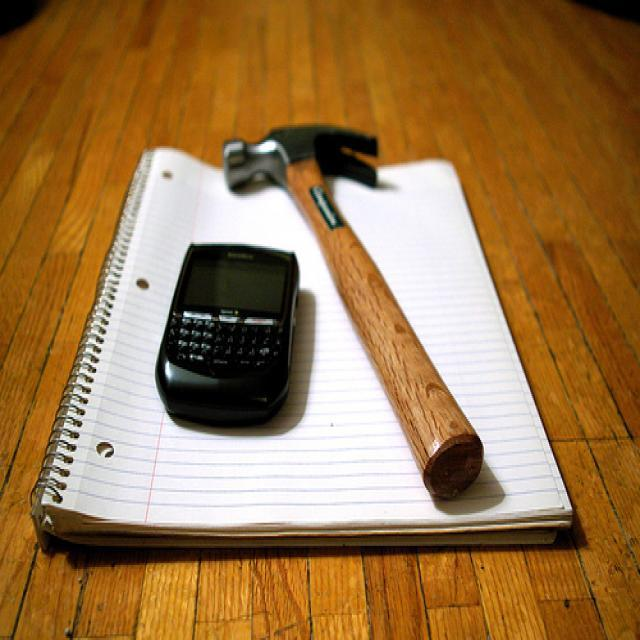hammer: (220, 105, 486, 507)
